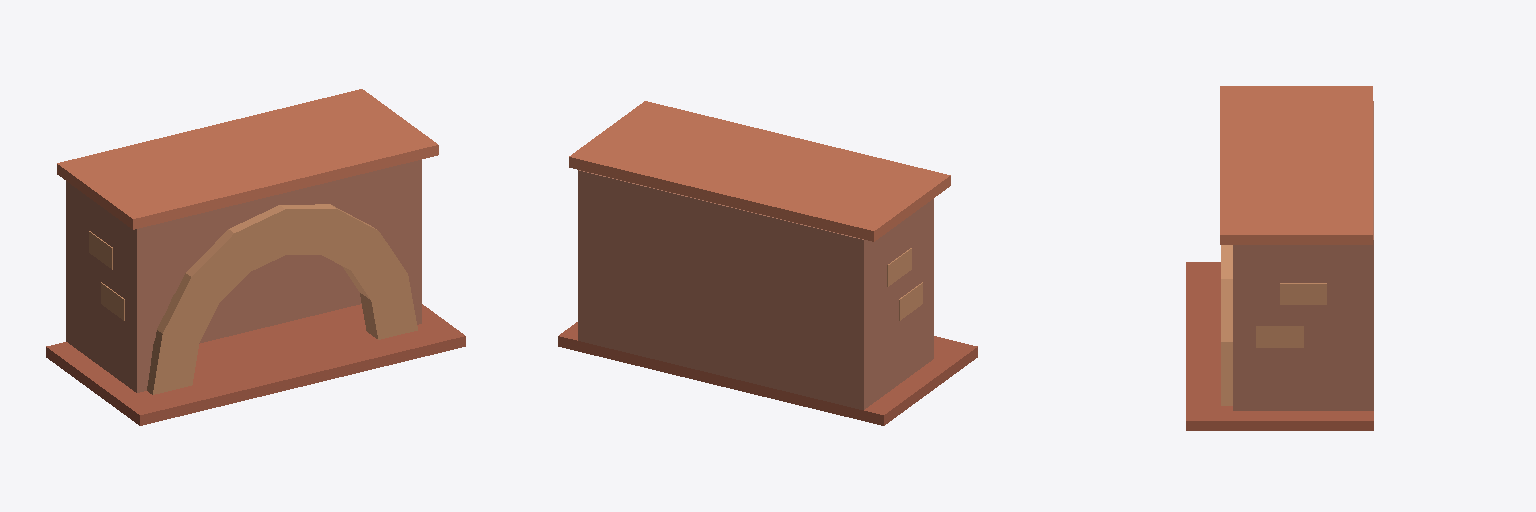
3 views of the same model, side by side, from view 1: azimuth 30°, elevation 25°; view 2: azimuth 150°, elevation 25°; view 3: azimuth 270°, elevation 25° (orthographic).
Visible parts, largest first — view 1: oven; view 2: oven; view 3: oven.
Part boxes in pixels (left/top/right/bottom): oven: left=46, top=89, right=465, bottom=425; oven: left=558, top=101, right=977, bottom=425; oven: left=1186, top=86, right=1373, bottom=430.
Bounding box in the file's own units: 1.6 × 0.9 × 0.8.
Materials: 4 (4 with a texture image).